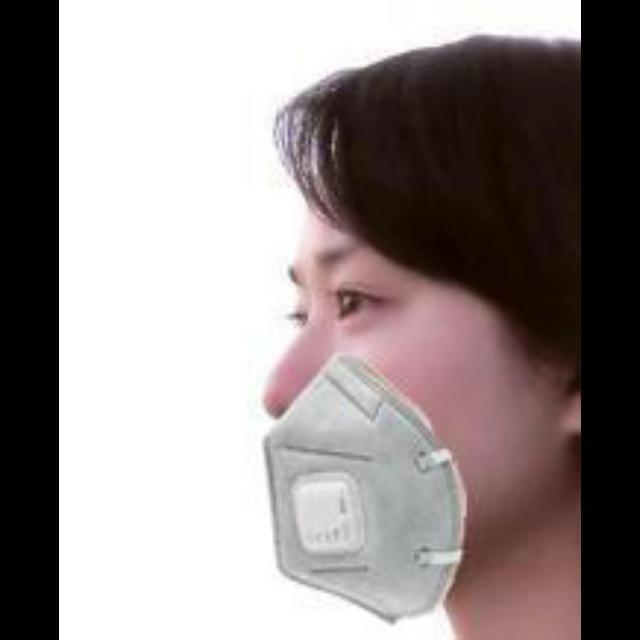suspicion: (178, 50, 562, 610)
